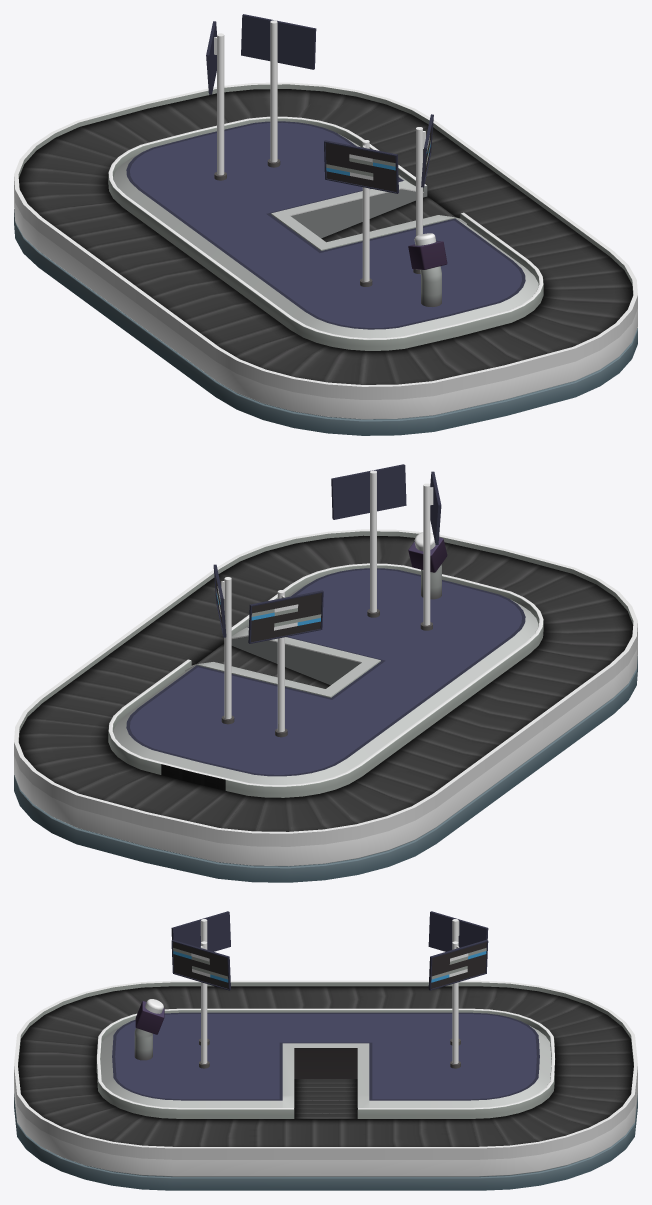
File: Conveyor_Belt.fbx
3 renders of one model, top to bottom at view 1: azimuth 30°, elevation 25°; view 2: azimuth 150°, elevation 25°; view 3: azimuth 270°, elevation 25°, orthographic. The views are drawn at different scales.
Parts seen in each view (by area): view 1: Conveyor_Belt; view 2: Conveyor_Belt; view 3: Conveyor_Belt.
Boxes of the visible parts, x1,y1,x2,y2 form: Conveyor_Belt: (14, 14, 637, 435); Conveyor_Belt: (14, 464, 637, 882); Conveyor_Belt: (14, 911, 637, 1190).
Bounding box in the file's own units: 600 × 290 × 943.
